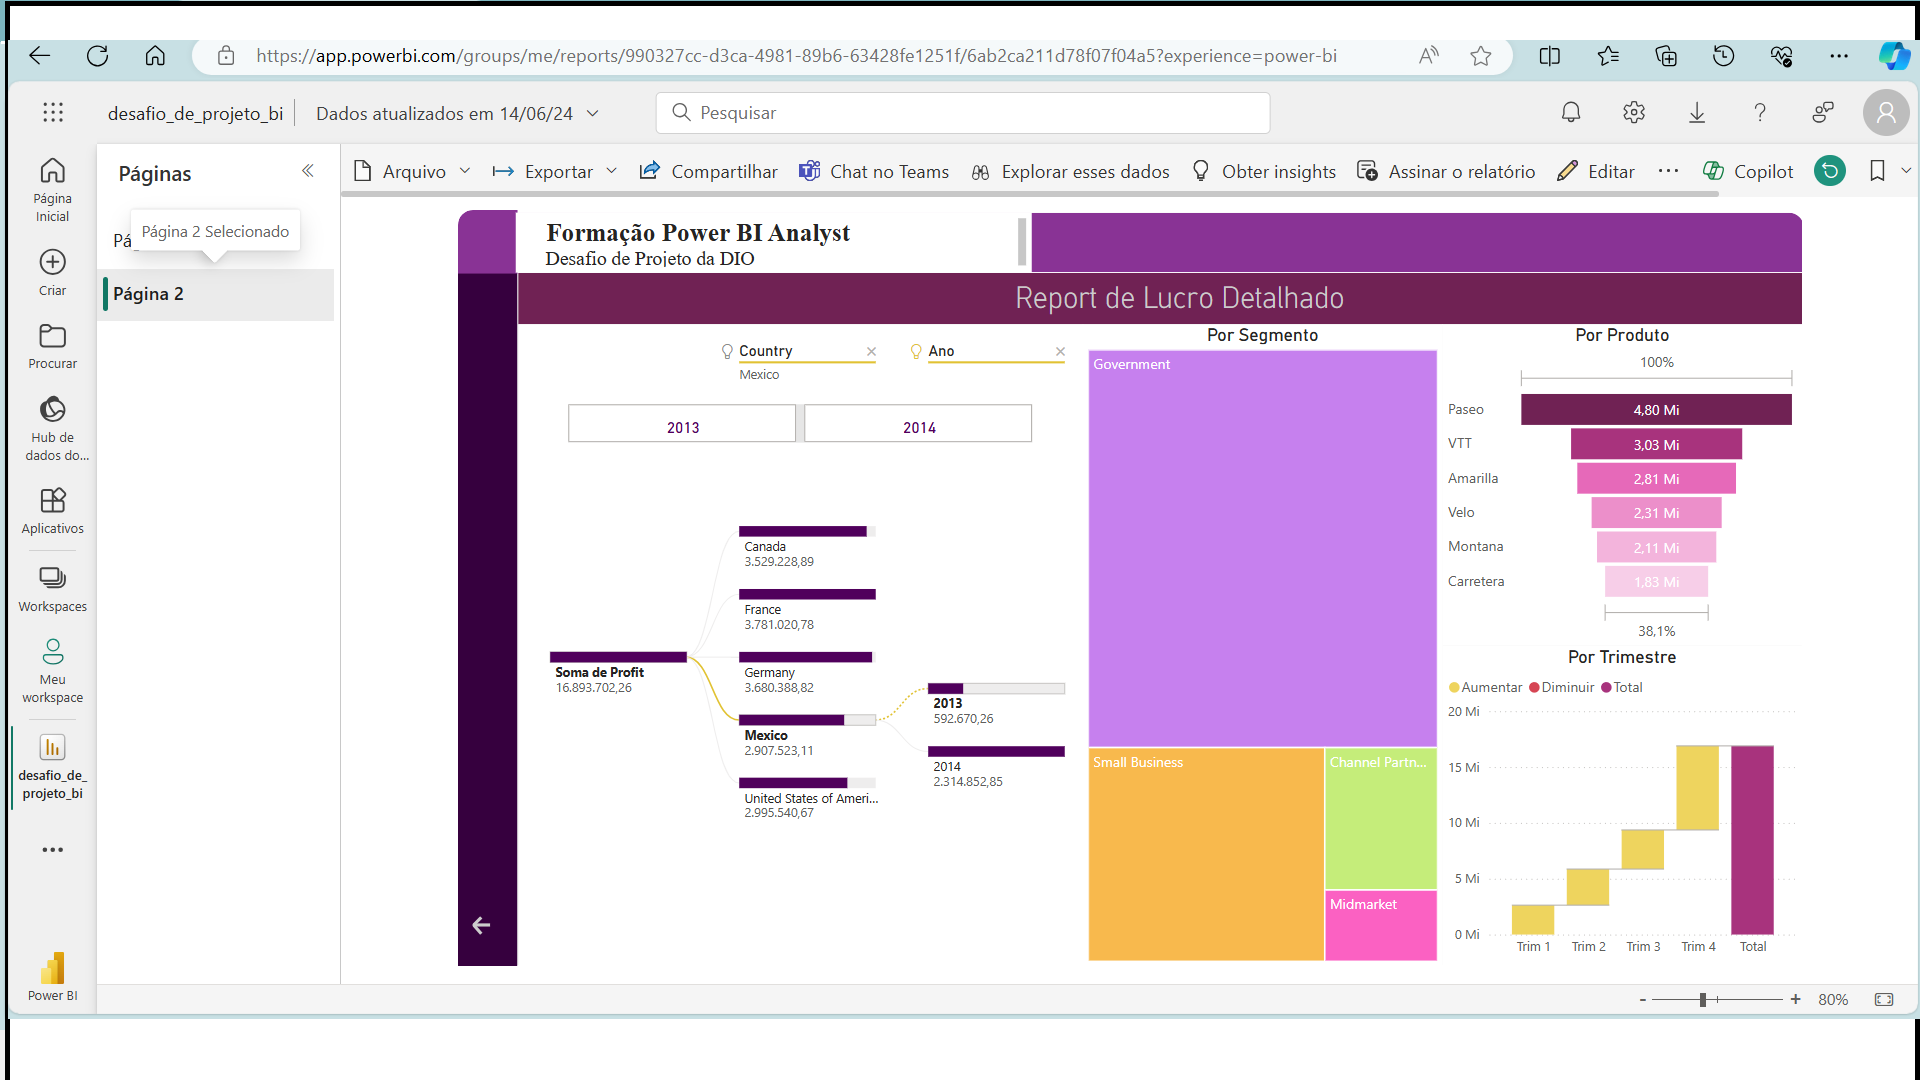

What the dashboard file says about the page in this screenshot:
{"tool":"powerbi","page":{"name":"Página 2","canvas":[1280,720],"ordinal":1},"visuals":[{"type":"group","id":"g1","title":"Formas","box":[0,0,1281.1,720.1],"z":0},{"type":"shape","box":[56.5,60.3,1223.9,659],"z":0,"group":"g1"},{"type":"shape","box":[0,59.5,56.5,660.4],"z":1000,"group":"g1"},{"type":"shape","box":[0,0,56.9,60.8],"z":2000,"group":"g1"},{"type":"textbox","title":"Tema","box":[55.6,2.6,491.3,56.9],"z":2000},{"type":"shape","box":[56.9,2.6,1224.3,56.9],"z":3000,"group":"g1"},{"type":"textbox","title":"Sales report","box":[479.7,61.1,377.9,45.1],"z":3000},{"type":"shape","box":[56.9,59.5,1223,49.1],"z":4000,"group":"g1"},{"type":"advancedSlicerVisual","fields":{"Values":["financials.Date.Variation.Hierarquia de datas.Ano"]},"box":[104.7,184.9,442.1,36.2],"z":4000},{"type":"waterfallChart","title":"Por Trimestre","fields":{"Category":["financials.Date.Variation.Hierarquia de datas.Trimestre"],"Y":["Sum(financials.Profit)"]},"box":[937.3,415,342.6,305.1],"z":5000},{"type":"funnel","title":"Por Produto","fields":{"Category":["financials.Product"],"Y":["Sum(financials.Profit)"]},"box":[937.3,108.6,342.6,306.4],"z":6000},{"type":"treemap","title":"Por Segmento","fields":{"Group":["financials.Segment"],"Values":["Sum(financials.Profit)"]},"box":[594.7,108.6,342.6,611.5],"z":6001,"group":"g1"},{"type":"actionButton","box":[10.3,668.4,28.4,25.9],"z":6001},{"type":"decompositionTreeVisual","fields":{"ExplainBy":["financials.Country","financials.Date.Variation.Hierarquia de datas.Ano"],"Analyze":["Sum(financials.Profit)"]},"box":[56.9,108.6,537.8,611.5],"z":7002,"group":"g1"}]}

Visuals, with their boxes on the page's 1280x720 design canvas (x1, y1, x2, y2). These are canvas units, not pixel positions in the 1920x1080 screenshot, which may show the page scaled, cropped or inside an application window:
"Formas" group: bbox=(0, 0, 1281, 720)
shape: bbox=(56, 60, 1280, 719)
shape: bbox=(0, 60, 56, 720)
shape: bbox=(0, 0, 57, 61)
"Tema" textbox: bbox=(56, 3, 547, 60)
shape: bbox=(57, 3, 1281, 60)
"Sales report" textbox: bbox=(480, 61, 858, 106)
shape: bbox=(57, 60, 1280, 109)
advancedSlicerVisual - financials.Date.Variation.Hierarquia de datas.Ano: bbox=(105, 185, 547, 221)
"Por Trimestre" waterfallChart: bbox=(937, 415, 1280, 720)
"Por Produto" funnel: bbox=(937, 109, 1280, 415)
"Por Segmento" treemap: bbox=(595, 109, 937, 720)
actionButton: bbox=(10, 668, 39, 694)
decompositionTreeVisual - financials.Country x financials.Date.Variation.Hierarquia de datas.Ano: bbox=(57, 109, 595, 720)
